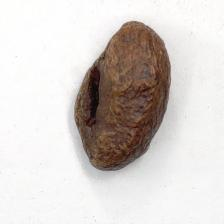NG: (76, 58, 110, 135)
